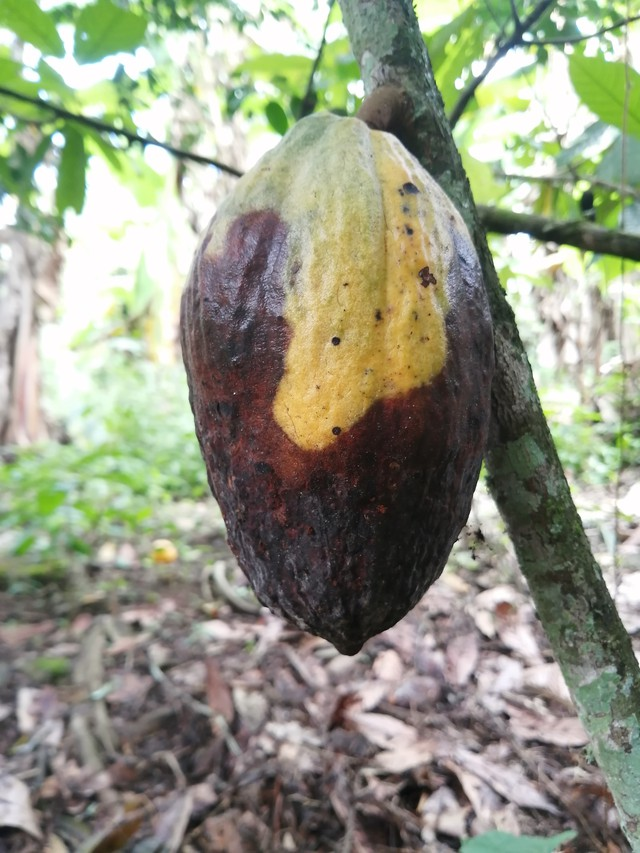moniliophthora roreri: (164, 98, 508, 664)
